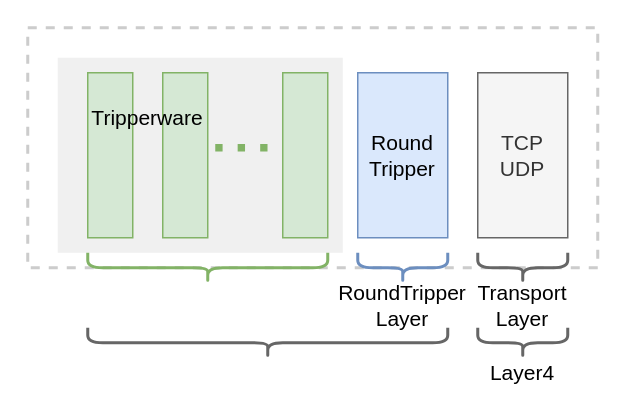
This 624x413 diagram has some shape labels left out. The shapes that lost their labels are listed below. From the top down, each one's centre as x and y in pixels, then its label:
[207,267]: Tripperware Layer
[267,342]: Layer7
